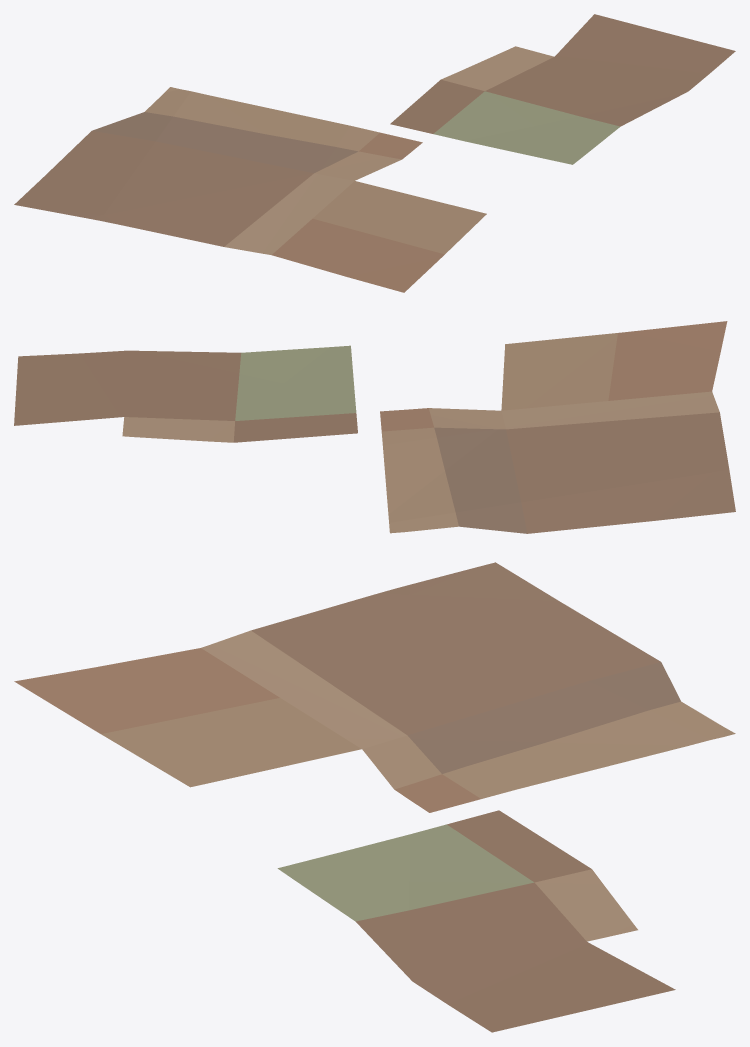
Rendered from farm_15_35_soil.glb.
The picture shows the model from 3 angles, top to bottom: view 1: azimuth 30°, elevation 25°; view 2: azimuth 150°, elevation 25°; view 3: azimuth 270°, elevation 25°; orthographic projection. The views are drawn at different scales.
Parts seen in each view (by area): view 1: geometry_0; view 2: geometry_0; view 3: geometry_0.
Boxes of the visible parts, left/top/right/bottom form: geometry_0: left=14, top=14, right=735, bottom=292; geometry_0: left=14, top=321, right=735, bottom=533; geometry_0: left=14, top=562, right=735, bottom=1032.
Bounding box in the file's own units: 267 × 8.48 × 184.
